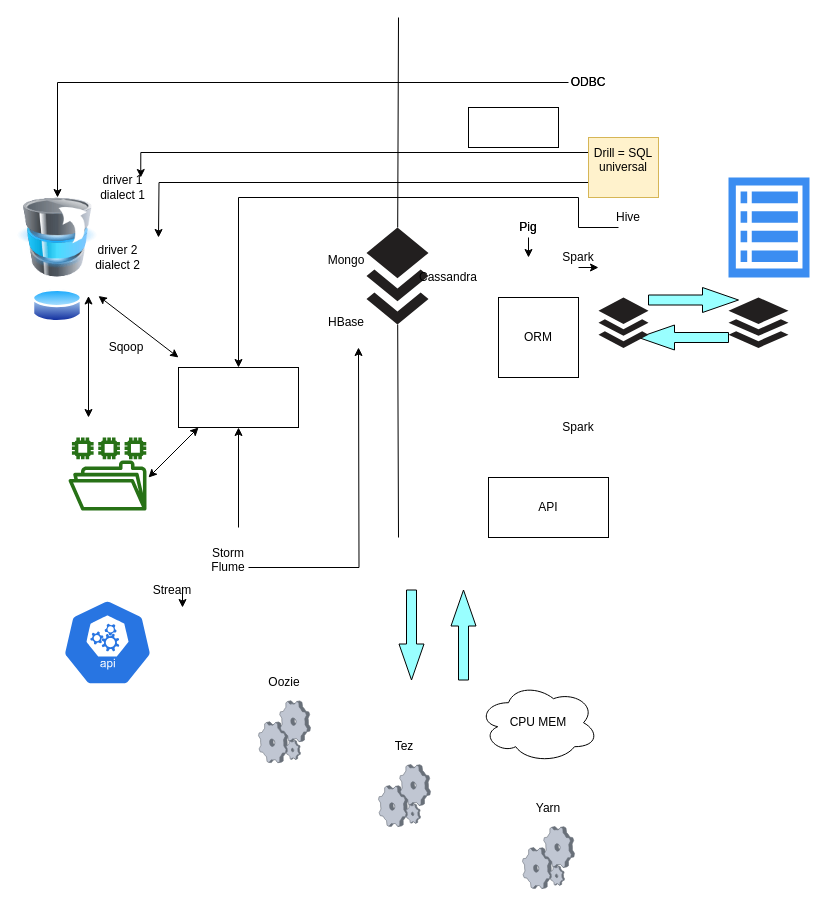
This 826x906 diagram has some shape labels left out. Each missing label, with the centre of its shape:
HDFS: (x=238, y=397)
SQL: (x=513, y=127)
